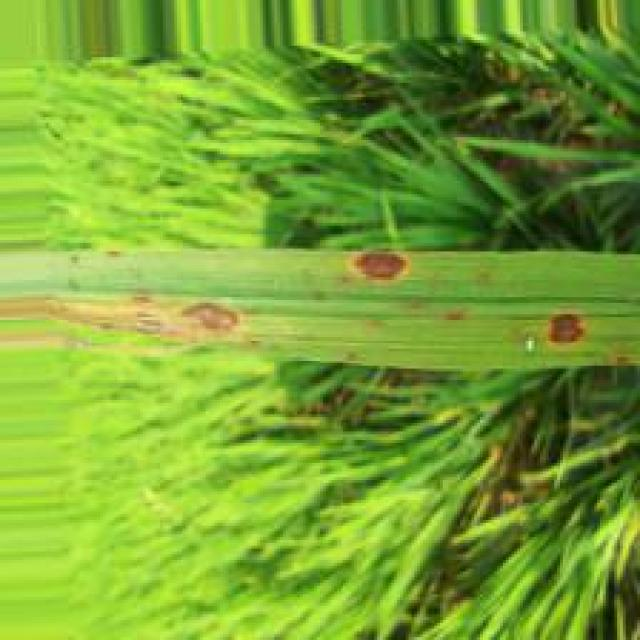Brown_Spot: (169, 297, 252, 337), (347, 251, 419, 288), (129, 288, 169, 339), (542, 310, 591, 351)
